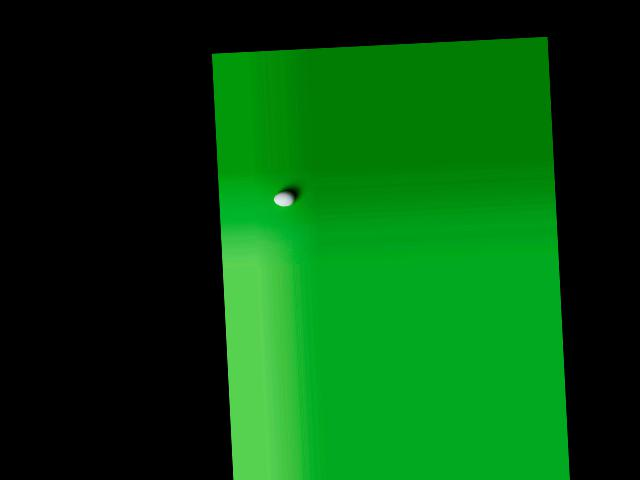egg: (273, 190, 295, 207)
